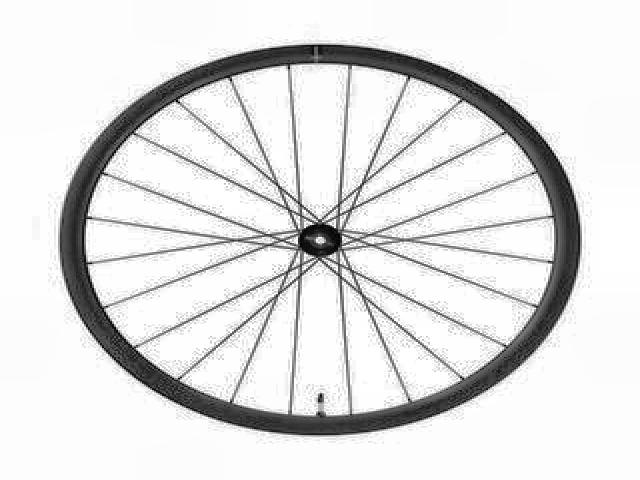wheel: (53, 40, 586, 437)
